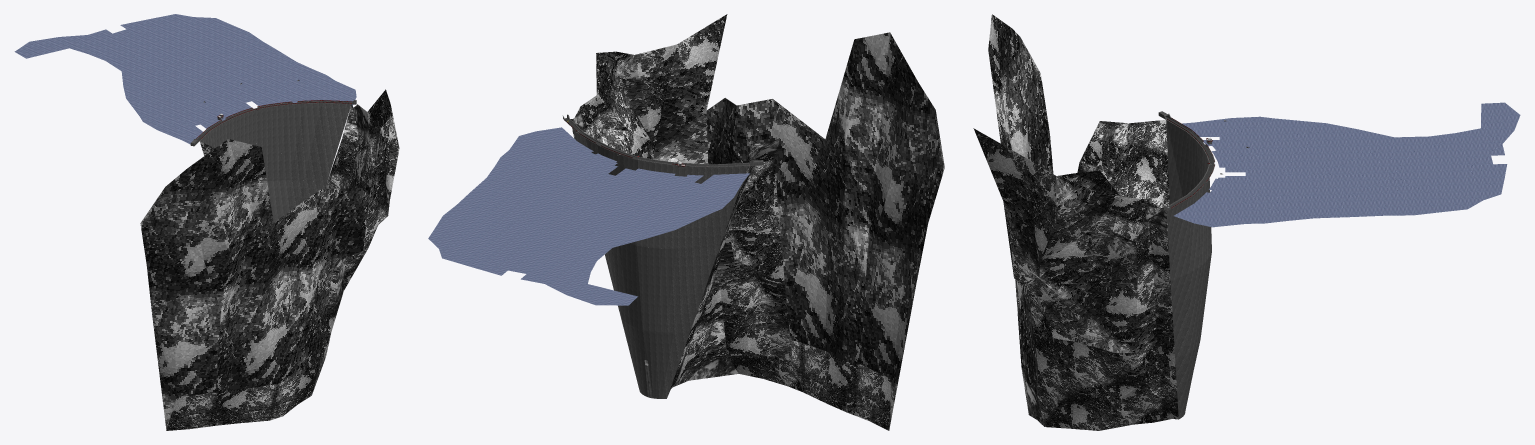
Rendered from dam21.obj.
3 renders of one model, left to right at view 1: azimuth 30°, elevation 25°; view 2: azimuth 150°, elevation 25°; view 3: azimuth 270°, elevation 25°, orthographic. The views are drawn at different scales.
Parts seen in each view (by area): view 1: 016_4E6D6411_c.bmp, 000_250FD62A_c.bmp, 006_250FD62A_c.bmp, 005_250FD62A_c.bmp, 001_250FD62A_c.bmp, 002_250FD62A_c.bmp, 040_255D277A_c.bmp, 007_250FD62A_c.bmp, 015_250FD62A_c.bmp, 037_255D277A_c.bmp, 003_250FD62A_c.bmp, 044_255D277A_c.bmp (+4 smaller); view 2: 016_4E6D6411_c.bmp, 006_250FD62A_c.bmp, 000_250FD62A_c.bmp, 007_250FD62A_c.bmp, 005_250FD62A_c.bmp, 001_250FD62A_c.bmp, 002_250FD62A_c.bmp, 043_255D277A_c.bmp, 011_250FD62A_c.bmp, 013_250FD62A_c.bmp, 009_250FD62A_c.bmp, 039_255D277A_c.bmp (+11 smaller); view 3: 016_4E6D6411_c.bmp, 007_250FD62A_c.bmp, 009_250FD62A_c.bmp, 008_250FD62A_c.bmp, 000_250FD62A_c.bmp, 013_250FD62A_c.bmp, 014_250FD62A_c.bmp, 015_250FD62A_c.bmp, 010_250FD62A_c.bmp, 040_255D277A_c.bmp, 044_255D277A_c.bmp, 039_255D277A_c.bmp (+4 smaller).
Part boxes in pixels (x1,y1,x2,y2): 016_4E6D6411_c.bmp: (14, 14, 356, 144); 000_250FD62A_c.bmp: (140, 139, 273, 311); 006_250FD62A_c.bmp: (216, 263, 331, 425); 005_250FD62A_c.bmp: (152, 296, 239, 430); 001_250FD62A_c.bmp: (200, 212, 284, 312); 002_250FD62A_c.bmp: (274, 188, 359, 273); 040_255D277A_c.bmp: (278, 103, 351, 182); 007_250FD62A_c.bmp: (367, 89, 399, 222); 015_250FD62A_c.bmp: (327, 104, 369, 188); 037_255D277A_c.bmp: (256, 105, 287, 181); 003_250FD62A_c.bmp: (332, 188, 379, 271); 044_255D277A_c.bmp: (275, 180, 326, 221); 016_4E6D6411_c.bmp: (428, 127, 749, 305); 006_250FD62A_c.bmp: (720, 193, 846, 412); 000_250FD62A_c.bmp: (825, 32, 944, 281); 007_250FD62A_c.bmp: (596, 14, 727, 158); 005_250FD62A_c.bmp: (843, 241, 916, 430); 001_250FD62A_c.bmp: (804, 131, 885, 263); 002_250FD62A_c.bmp: (725, 98, 825, 205); 043_255D277A_c.bmp: (657, 246, 719, 332); 011_250FD62A_c.bmp: (712, 224, 784, 289); 013_250FD62A_c.bmp: (720, 138, 779, 247); 009_250FD62A_c.bmp: (673, 286, 738, 386); 039_255D277A_c.bmp: (662, 165, 747, 249); 016_4E6D6411_c.bmp: (1174, 102, 1520, 227); 007_250FD62A_c.bmp: (973, 128, 1120, 277); 009_250FD62A_c.bmp: (1037, 338, 1132, 430); 008_250FD62A_c.bmp: (1014, 232, 1112, 346); 000_250FD62A_c.bmp: (988, 14, 1053, 173); 013_250FD62A_c.bmp: (1077, 120, 1169, 223); 014_250FD62A_c.bmp: (1094, 269, 1174, 356); 015_250FD62A_c.bmp: (1107, 196, 1170, 283); 010_250FD62A_c.bmp: (1114, 339, 1178, 424); 040_255D277A_c.bmp: (1166, 187, 1205, 281); 044_255D277A_c.bmp: (1170, 262, 1205, 356); 039_255D277A_c.bmp: (1166, 120, 1203, 204).
Size of the model in its own units: 9.09 by 9.28 by 12.69.
